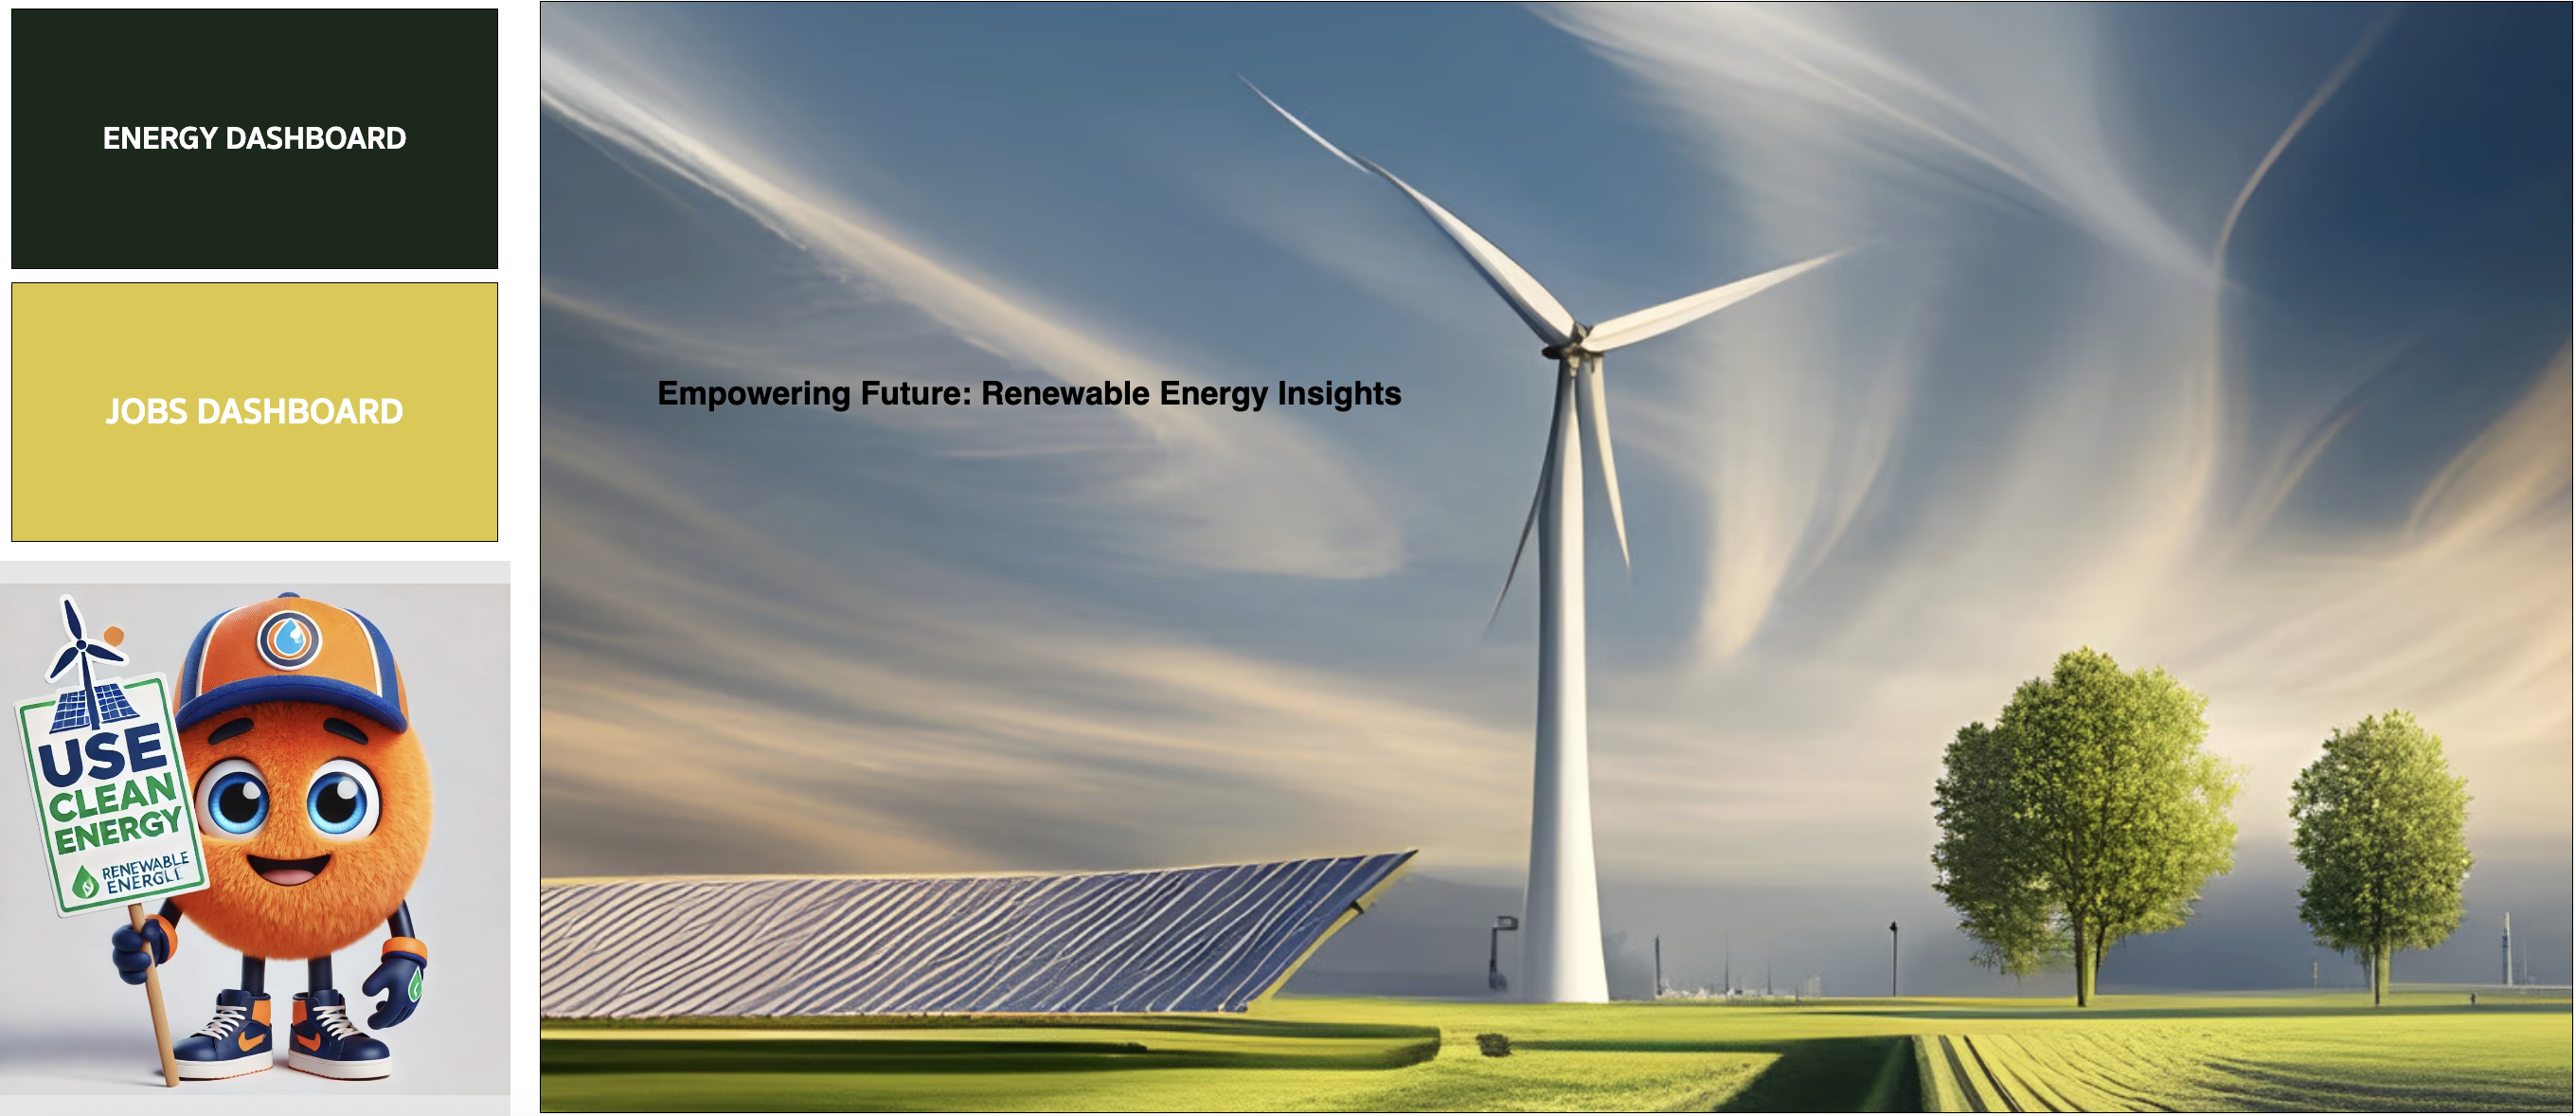

What the dashboard file says about the page in this screenshot:
{"tool":"tableau","page":{"name":"Opening Dashboard","canvas":[1000,1000],"units":"permille","ordinal":2},"visuals":[{"type":"image","box":[209.4,12.1,784.1,975.9]},{"type":"dashboard-object","box":[14.7,27.2,186.3,233.8]},{"type":"dashboard-object","box":[14.7,260.9,186.3,232.3]},{"type":"text","box":[219.7,320.3,363.7,79.7]},{"type":"image","param":"Image/cute otto re 2.jpeg","box":[12.2,503.8,191.2,473.6]}]}

Visuals, with their boxes on the dashboard's canvas, which has no fixed pixel size, in thousandths of its width and height (x1, y1, x2, y2). These are canvas units, not pixel positions in the 2576x1116 screenshot, which may show the page scaled, cropped or inside an application window:
image: 209,12,994,988
dashboard-object: 15,27,201,261
dashboard-object: 15,261,201,493
text: 220,320,583,400
image: 12,504,203,977
